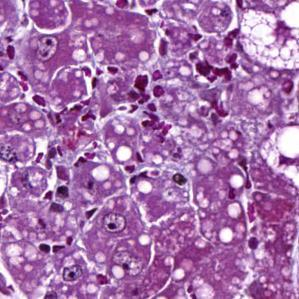ballooning: (235, 7, 297, 71)
